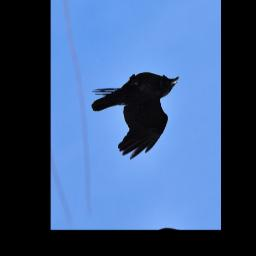Crow: (88, 45, 188, 177)
